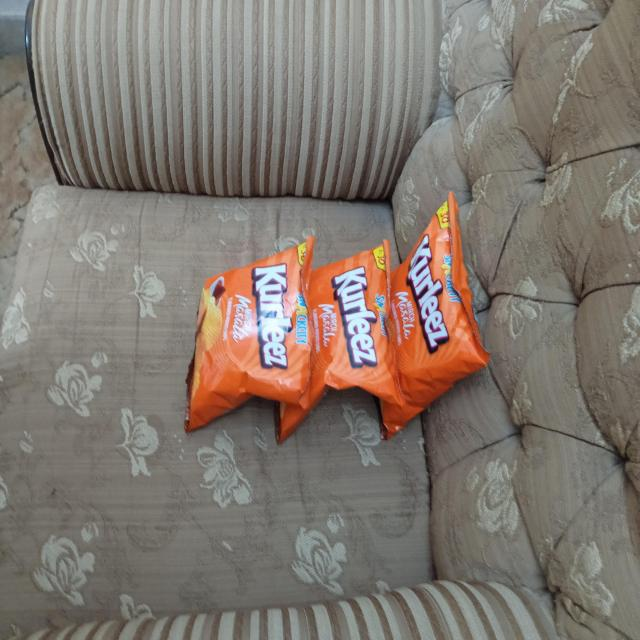Plastic: (191, 248, 311, 424), (392, 192, 472, 448), (315, 248, 394, 404)
